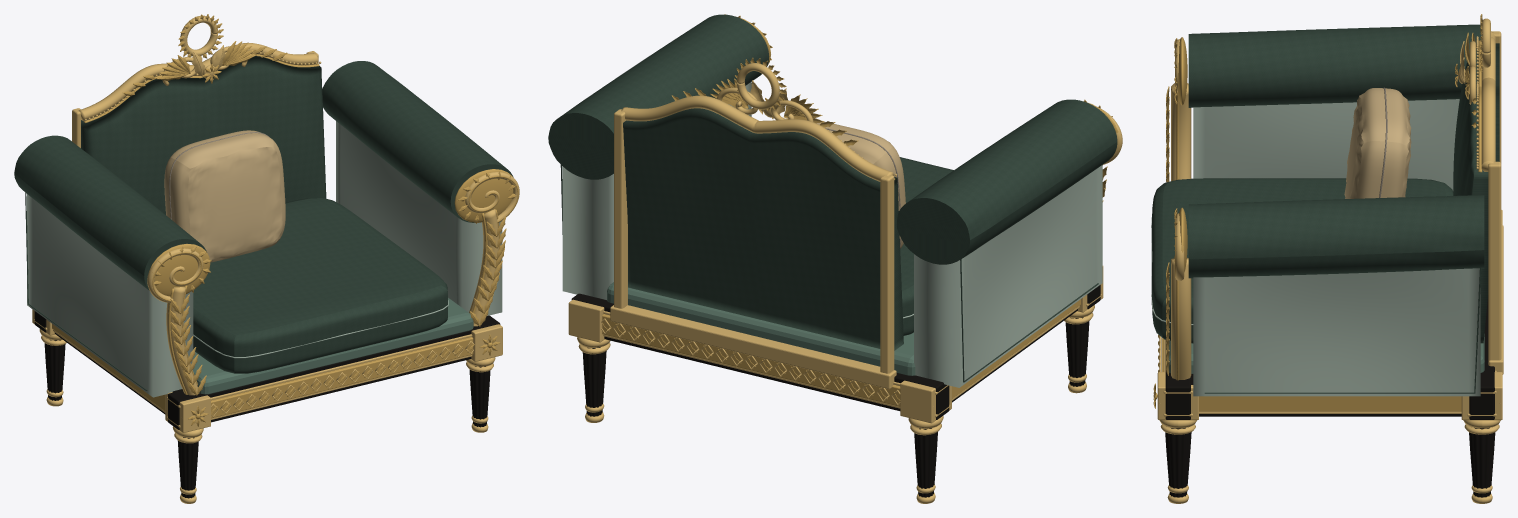
The picture shows the model from 3 angles, left to right: view 1: azimuth 30°, elevation 25°; view 2: azimuth 150°, elevation 25°; view 3: azimuth 270°, elevation 25°; orthographic projection. The views are drawn at different scales.
Parts seen in each view (by area): view 1: Trianon armchair | 50474.0 | salon-2 web batch; view 2: Trianon armchair | 50474.0 | salon-2 web batch; view 3: Trianon armchair | 50474.0 | salon-2 web batch.
Boxes of the visible parts, x1,y1,x2,y2 form: Trianon armchair | 50474.0 | salon-2 web batch: [14, 14, 519, 503]; Trianon armchair | 50474.0 | salon-2 web batch: [548, 14, 1122, 503]; Trianon armchair | 50474.0 | salon-2 web batch: [1151, 14, 1503, 503].
Bounding box in the file's own units: 1.23 × 1.11 × 0.88.
Materials: 8 (1 with a texture image).
